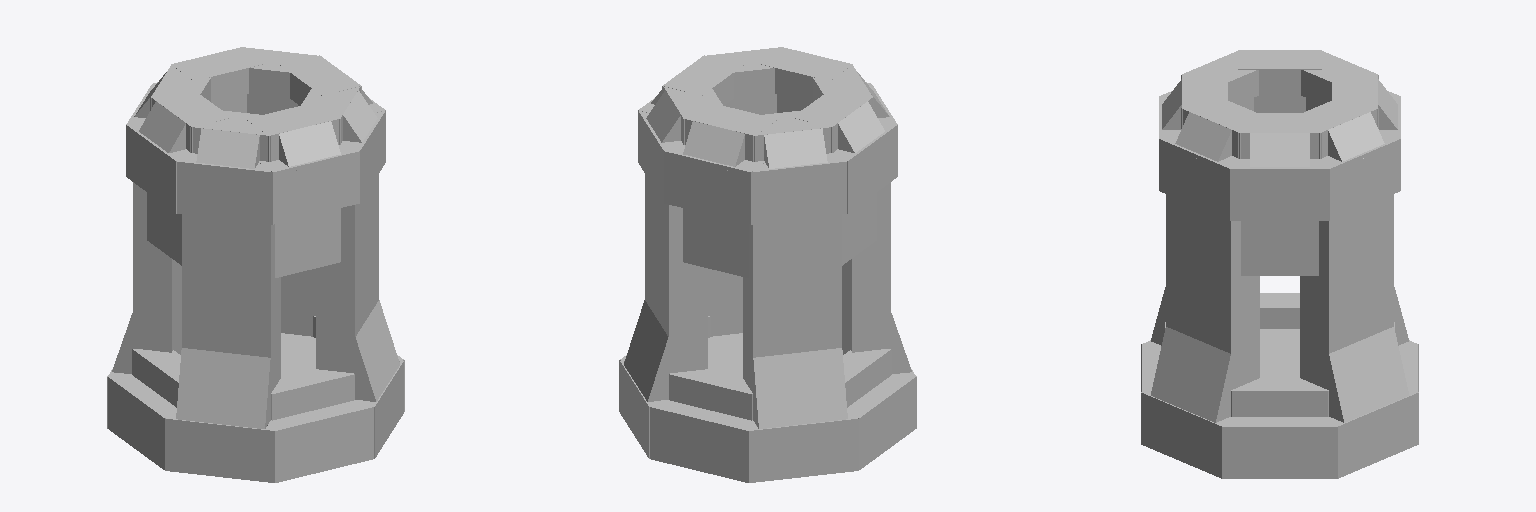
Rendered from genempty.obj.
3 views of the same model, side by side, from view 1: azimuth 30°, elevation 25°; view 2: azimuth 150°, elevation 25°; view 3: azimuth 270°, elevation 25° (orthographic).
Parts seen in each view (by area): view 1: PoW0, PoS0, PoW1, PS0, PSW0, PoN0, CSW0, CS0, PW0, ScreenS, PS1, CW0 (+21 smaller); view 2: PoN0, PoE0, PoN1, PN0, PNW0, PoW0, CNW0, CN0, PW0, ScreenN, PN1, CW0 (+21 smaller); view 3: PoS0, PoE0, PE0, CE0, PoS1, PoE1, PNE0, PSE0, ScreenE, CSE0, CNE0, PE1 (+18 smaller).
Boxes of the visible parts, x1,y1,x2,y2 form: PoW0: [182, 215, 280, 392]; PoS0: [316, 174, 378, 373]; PoW1: [176, 348, 270, 428]; PS0: [267, 400, 374, 482]; PSW0: [165, 416, 274, 482]; PoN0: [133, 182, 181, 354]; CSW0: [177, 157, 272, 224]; CS0: [259, 141, 359, 224]; PW0: [107, 373, 176, 469]; ScreenS: [275, 208, 340, 277]; PS1: [271, 367, 354, 420]; CW0: [126, 120, 196, 213]; PoN0: [743, 215, 841, 392]; PoE0: [645, 174, 707, 373]; PoN1: [753, 348, 847, 428]; PN0: [649, 400, 756, 482]; PNW0: [749, 416, 858, 482]; PoW0: [842, 182, 890, 354]; CNW0: [751, 157, 846, 224]; CN0: [664, 141, 764, 224]; PW0: [847, 373, 916, 469]; ScreenN: [683, 208, 748, 277]; PN1: [669, 367, 752, 420]; CW0: [827, 120, 897, 213]; PoS0: [1166, 194, 1259, 389]; PoE0: [1300, 194, 1393, 389]; PE0: [1222, 417, 1337, 478]; CE0: [1230, 156, 1329, 220]; PoS1: [1151, 327, 1230, 422]; PoE1: [1329, 327, 1408, 422]; PNE0: [1338, 392, 1418, 478]; PSE0: [1141, 392, 1221, 478]; ScreenE: [1241, 221, 1318, 275]; CSE0: [1159, 139, 1229, 220]; CNE0: [1330, 139, 1400, 220]; PE1: [1232, 376, 1327, 416].
Bounding box in the file's own units: 3.01 × 3.94 × 3.01.